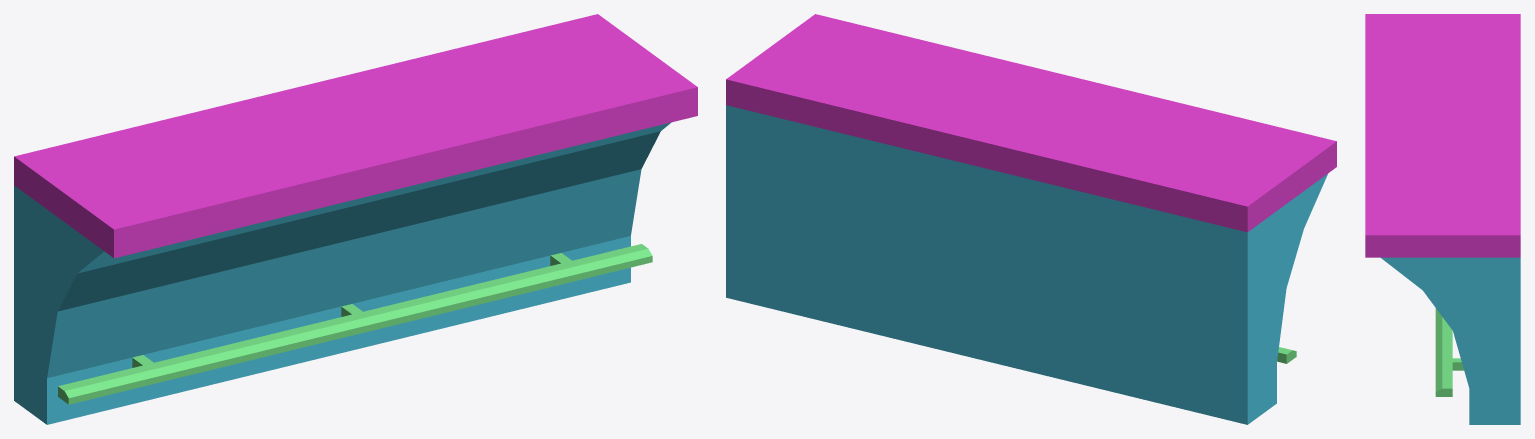
The model's file is Desk_06_Middle.fbx.
3 views of the same model, side by side, from view 1: azimuth 30°, elevation 25°; view 2: azimuth 150°, elevation 25°; view 3: azimuth 270°, elevation 25° (orthographic). The views are drawn at different scales.
Parts seen in each view (by area): view 1: Desk_06_Middle; view 2: Desk_06_Middle; view 3: Desk_06_Middle.
Boxes of the visible parts, x1,y1,x2,y2 form: Desk_06_Middle: (14,14,697,424); Desk_06_Middle: (726,14,1336,424); Desk_06_Middle: (1365,14,1520,424).
Bounding box in the file's own units: 229 × 91.44 × 67.81.
